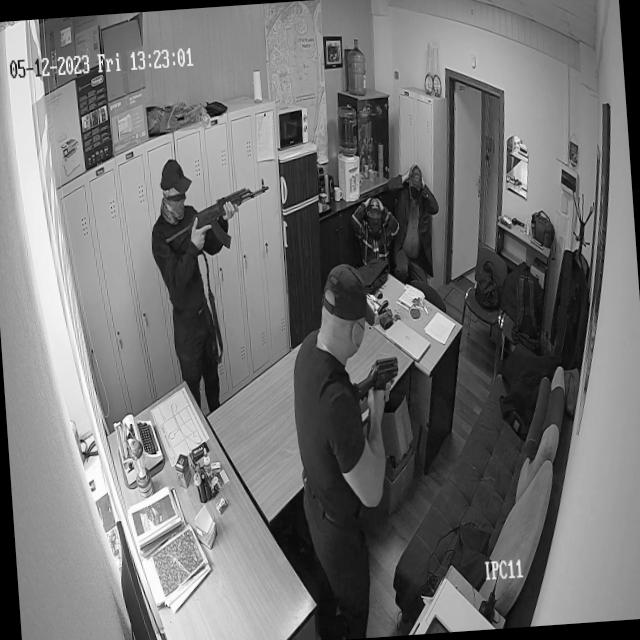gun: (160, 181, 275, 254), (353, 352, 402, 400)
person: (385, 164, 444, 280), (350, 198, 400, 273)
person with a gun: (282, 256, 418, 632), (144, 150, 281, 370)
